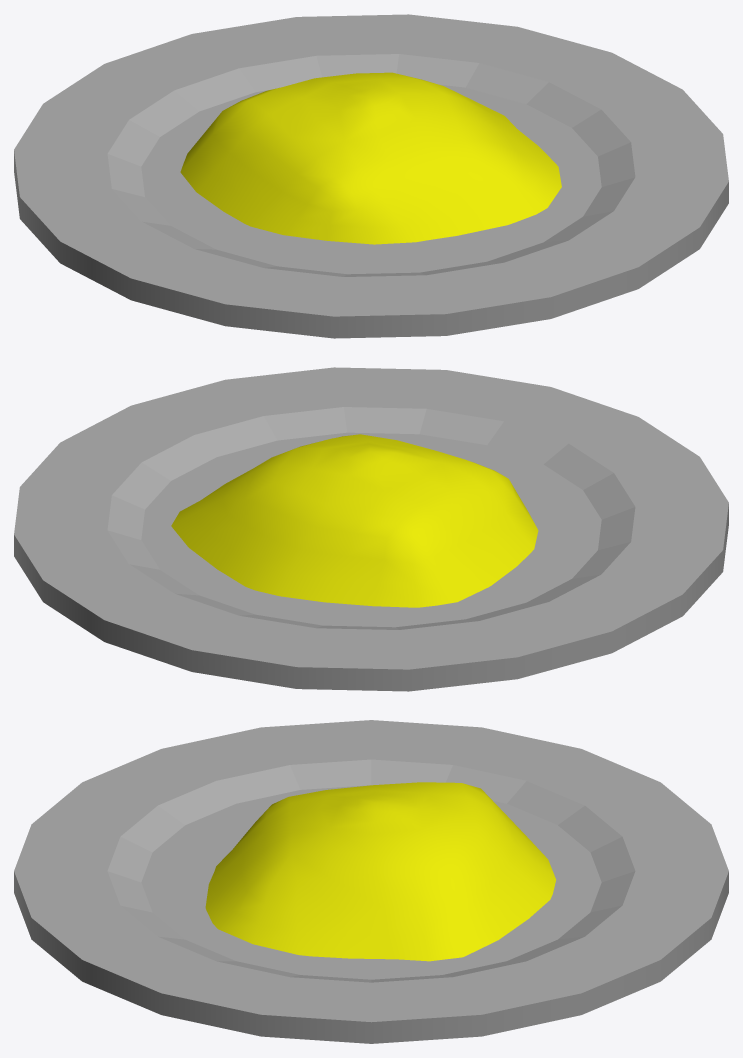
File: nudelgericht_high.fbx
3 renders of one model, top to bottom at view 1: azimuth 30°, elevation 25°; view 2: azimuth 150°, elevation 25°; view 3: azimuth 270°, elevation 25°, orthographic.
Visible parts, largest first — view 1: pCylinder1, pasted__pPlane1; view 2: pCylinder1, pasted__pPlane1; view 3: pCylinder1, pasted__pPlane1.
Part boxes in pixels (bbox=[...]): pCylinder1: bbox=[14, 14, 728, 338]; pasted__pPlane1: bbox=[180, 72, 561, 244]; pCylinder1: bbox=[14, 367, 728, 691]; pasted__pPlane1: bbox=[171, 434, 538, 607]; pCylinder1: bbox=[14, 720, 728, 1043]; pasted__pPlane1: bbox=[205, 782, 555, 961].
Size of the model in its own units: 1.6 by 0.27 by 1.6.
